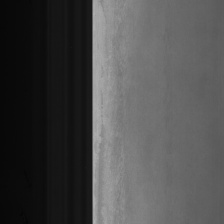silk_spot: (105, 21, 132, 217)
